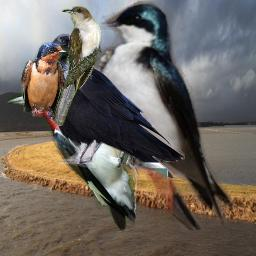Crow: (40, 33, 185, 180)
Cuckoo: (54, 6, 102, 126)
Swallow: (92, 0, 234, 230), (21, 42, 67, 122)
Woodpecker: (3, 83, 143, 231)
